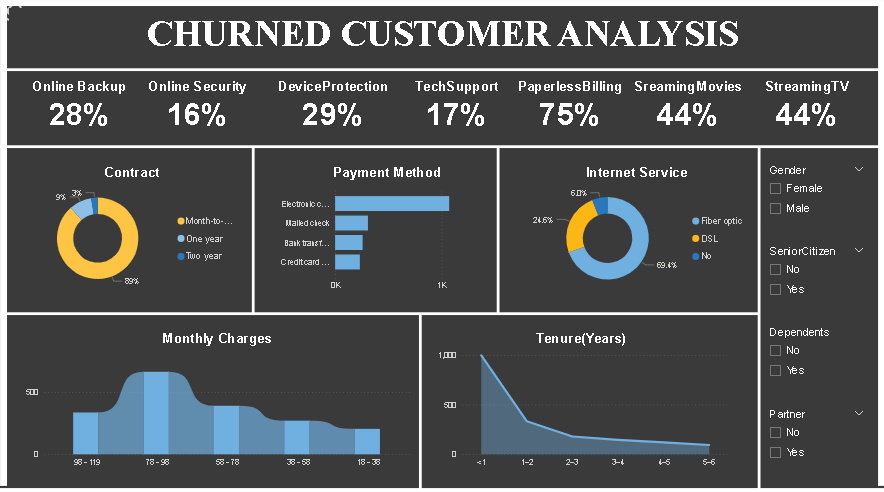

The dashboard page shown, as its layout file describes it:
{"tool":"powerbi","page":{"name":"CHURNED CUSTOMER","canvas":[1280,720],"ordinal":1},"visuals":[{"type":"actionButton","box":[0,0,100,40],"z":0},{"type":"kpi","title":"Online Backup","fields":{"TrendLine":["CHURNED CUSTOMER.OnlineBackup"],"Indicator":["CountNonNull(CHURNED CUSTOMER.OnlineBackup)"]},"box":[37,117,160,80],"z":1000},{"type":"kpi","title":"PaperlessBilling","fields":{"Indicator":["CountNonNull(CHURNED CUSTOMER.PaperlessBilling)"],"TrendLine":["CHURNED CUSTOMER.PaperlessBilling"]},"box":[735.7,117,176,80],"z":2000},{"type":"kpi","title":"TechSupport","fields":{"Indicator":["CountNonNull(CHURNED CUSTOMER.TechSupport)"],"TrendLine":["CHURNED CUSTOMER.TechSupport"]},"box":[581,117,160,80],"z":3000},{"type":"kpi","title":"Online Security","fields":{"TrendLine":["CHURNED CUSTOMER.OnlineSecurity"],"Indicator":["CountNonNull(CHURNED CUSTOMER.OnlineSecurity)"]},"box":[191.7,117,192,80],"z":4000},{"type":"kpi","title":"DeviceProtection","fields":{"TrendLine":["CHURNED CUSTOMER.DeviceProtection"],"Indicator":["CountNonNull(CHURNED CUSTOMER.DeviceProtection)"]},"box":[378.3,117,208,80],"z":5000},{"type":"kpi","title":"StreamingTV","fields":{"Indicator":["CountNonNull(CHURNED CUSTOMER.StreamingTV)"],"TrendLine":["CHURNED CUSTOMER.StreamingTV"]},"box":[1077,117,176,80],"z":6000},{"type":"kpi","title":"SreamingMovies","fields":{"Indicator":["CountNonNull(CHURNED CUSTOMER.StreamingMovies)"],"TrendLine":["CHURNED CUSTOMER.StreamingMovies"]},"box":[906.3,117,176,80],"z":7000},{"type":"slicer","fields":{"Values":["RAW DATA EXCEL.Dependents"]},"box":[1098,468.7,160,96],"z":8000},{"type":"donutChart","title":"Contract","fields":{"Category":["CHURNED CUSTOMER.Contract"],"Y":["CountNonNull(CHURNED CUSTOMER.customerID)"]},"box":[24,240,336,192],"z":9000},{"type":"clusteredBarChart","title":"Payment Method","fields":{"Category":["CHURNED CUSTOMER.PaymentMethod"],"Y":["CountNonNull(CHURNED CUSTOMER.customerID)"]},"box":[384,240,352,192],"z":10000},{"type":"ribbonChart","title":"Monthly Charges","fields":{"Category":["CHURNED CUSTOMER.MonthlyChargesG"],"Y":["CountNonNull(CHURNED CUSTOMER.customerID)"]},"box":[32,480,568,208],"z":11000},{"type":"areaChart","title":"Tenure(Years)","fields":{"Category":["CHURNED CUSTOMER.tenure(years)"],"Y":["CountNonNull(CHURNED CUSTOMER.customerID)"]},"box":[624,480,432,208],"z":12000},{"type":"textbox","box":[16,16,1248,80],"z":13000},{"type":"slicer","fields":{"Values":["RAW DATA EXCEL.SeniorCitizen"]},"box":[1098,351.3,160,96],"z":14000},{"type":"slicer","fields":{"Values":["RAW DATA EXCEL.Gender"]},"box":[1098,234,160,96],"z":15000},{"type":"slicer","fields":{"Values":["RAW DATA EXCEL.Partner"]},"box":[1098,586,160,96],"z":16000},{"type":"donutChart","title":"Internet Service","fields":{"Category":["CHURNED CUSTOMER.InternetService"],"Y":["CountNonNull(CHURNED CUSTOMER.customerID)"]},"box":[752,240,336,192],"z":17000},{"type":"shape","box":[0,192,1280,48],"z":18000},{"type":"shape","box":[0,80,1280,48],"z":19000},{"type":"shape","box":[0,432,1096,48],"z":20000},{"type":"shape","box":[0,0,1280,16],"z":21000},{"type":"shape","box":[0,704,1280,16],"z":22000},{"type":"shape","box":[1080,216,32,496],"z":23000},{"type":"shape","box":[416,456,384,264],"z":24000},{"type":"shape","box":[704,216,32,240],"z":25000},{"type":"shape","box":[336,216,64,240],"z":26000},{"type":"shape","box":[1264,0,16,704],"z":27000},{"type":"shape","box":[0,0,16,704],"z":28000}]}

Visuals, with their boxes in screenshot pixels (x1, y1, x2, y2), scaled from the page's 1280x720 canvas onto the 884x492 screenshot:
actionButton: [x1=0, y1=0, x2=69, y2=27]
"Online Backup" kpi: [x1=26, y1=80, x2=136, y2=135]
"PaperlessBilling" kpi: [x1=508, y1=80, x2=630, y2=135]
"TechSupport" kpi: [x1=401, y1=80, x2=512, y2=135]
"Online Security" kpi: [x1=132, y1=80, x2=265, y2=135]
"DeviceProtection" kpi: [x1=261, y1=80, x2=405, y2=135]
"StreamingTV" kpi: [x1=744, y1=80, x2=865, y2=135]
"SreamingMovies" kpi: [x1=626, y1=80, x2=747, y2=135]
slicer - RAW DATA EXCEL.Dependents: [x1=758, y1=320, x2=869, y2=386]
"Contract" donutChart: [x1=17, y1=164, x2=249, y2=295]
"Payment Method" clusteredBarChart: [x1=265, y1=164, x2=508, y2=295]
"Monthly Charges" ribbonChart: [x1=22, y1=328, x2=414, y2=470]
"Tenure(Years)" areaChart: [x1=431, y1=328, x2=729, y2=470]
textbox: [x1=11, y1=11, x2=873, y2=66]
slicer - RAW DATA EXCEL.SeniorCitizen: [x1=758, y1=240, x2=869, y2=306]
slicer - RAW DATA EXCEL.Gender: [x1=758, y1=160, x2=869, y2=226]
slicer - RAW DATA EXCEL.Partner: [x1=758, y1=400, x2=869, y2=466]
"Internet Service" donutChart: [x1=519, y1=164, x2=751, y2=295]
shape: [x1=0, y1=131, x2=883, y2=164]
shape: [x1=0, y1=55, x2=883, y2=87]
shape: [x1=0, y1=295, x2=757, y2=328]
shape: [x1=0, y1=0, x2=883, y2=11]
shape: [x1=0, y1=481, x2=883, y2=491]
shape: [x1=746, y1=148, x2=768, y2=487]
shape: [x1=287, y1=312, x2=552, y2=491]
shape: [x1=486, y1=148, x2=508, y2=312]
shape: [x1=232, y1=148, x2=276, y2=312]
shape: [x1=873, y1=0, x2=883, y2=481]
shape: [x1=0, y1=0, x2=11, y2=481]
